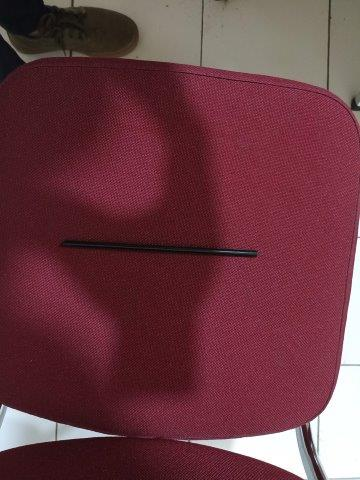sedotan: (61, 240, 257, 258)
